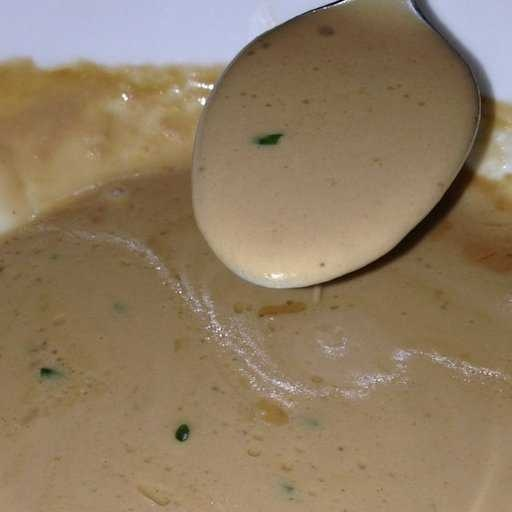soup: (1, 58, 504, 508)
